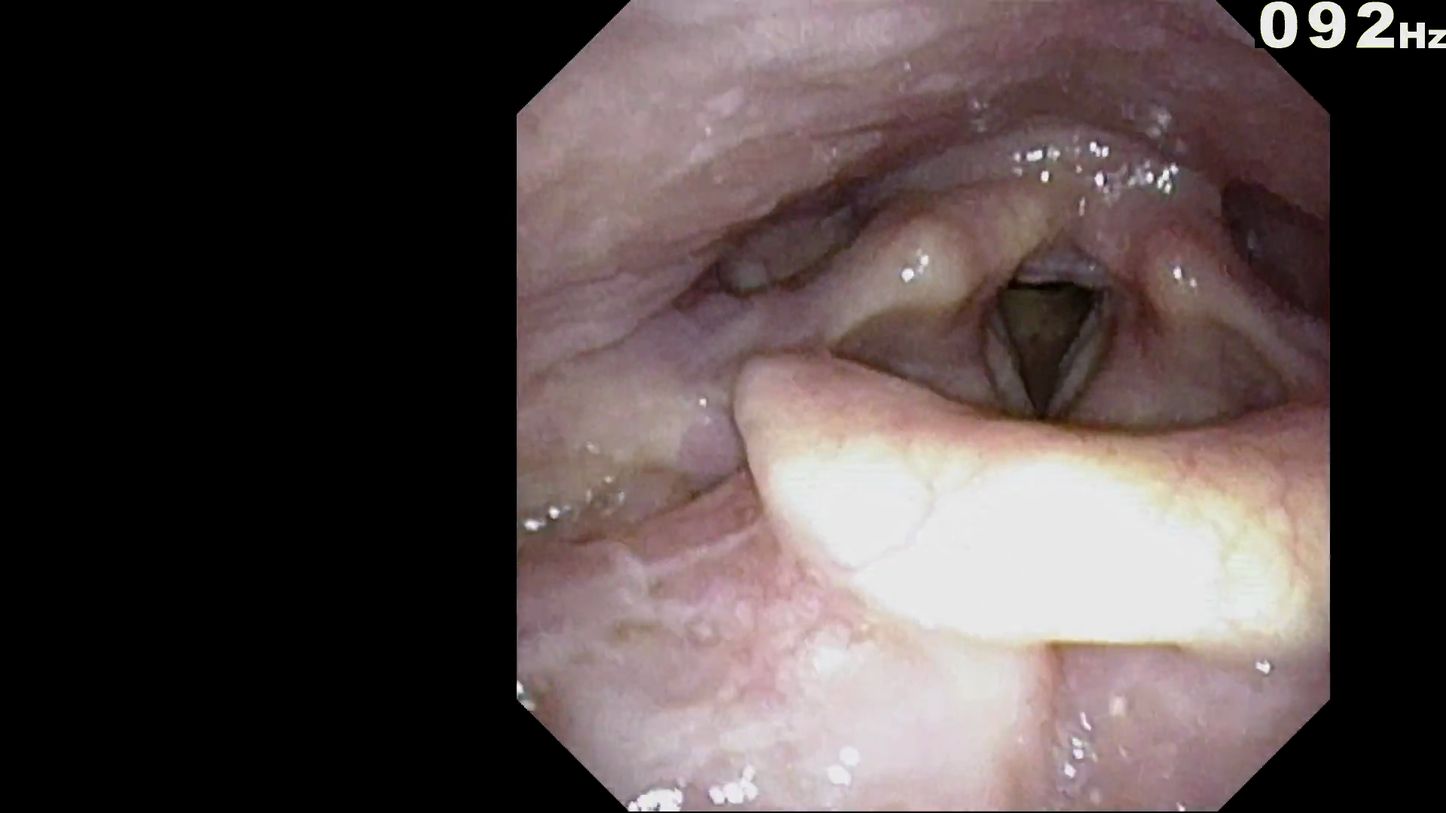epiglottis: (695, 343, 1322, 651)
trachea: (948, 249, 1128, 460)
